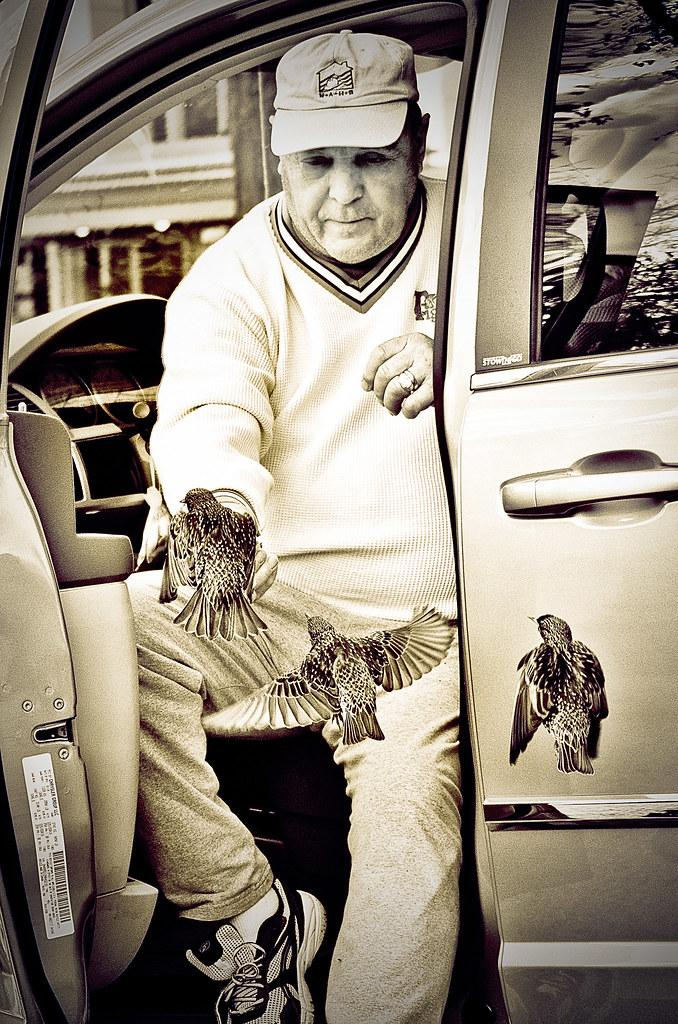car: (2, 1, 678, 1024)
